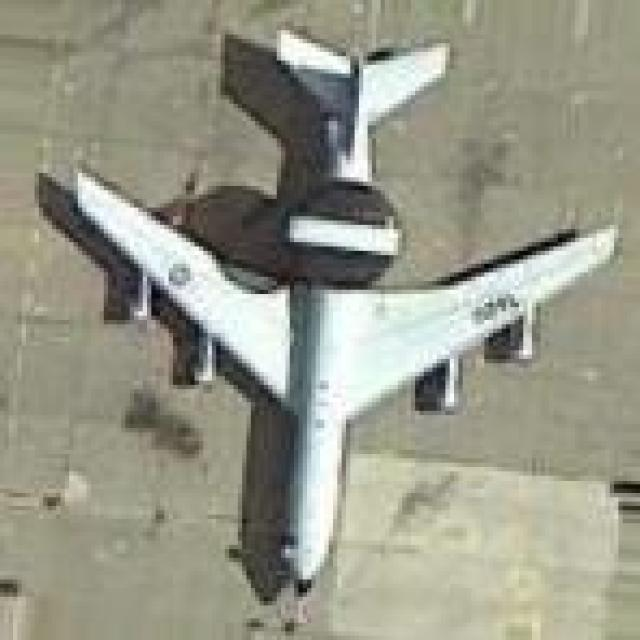E-3_TopDown: (31, 13, 618, 601)
